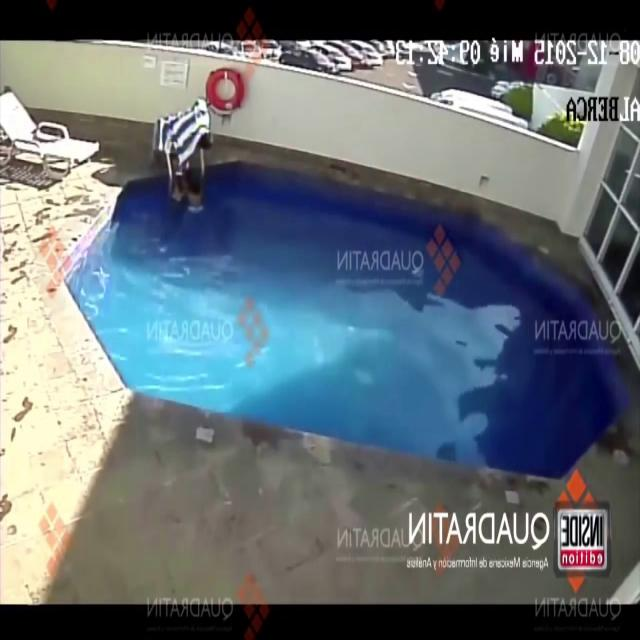adult: (152, 97, 212, 165)
child: (183, 168, 204, 216)
